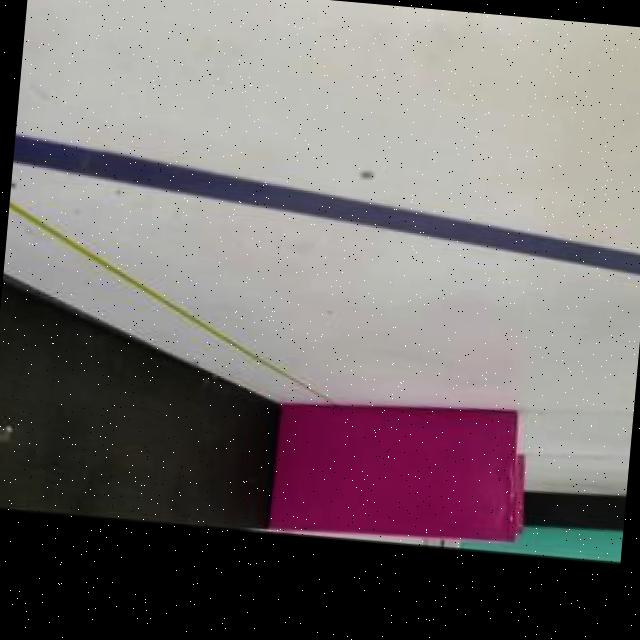xparking: (282, 392, 513, 542)
